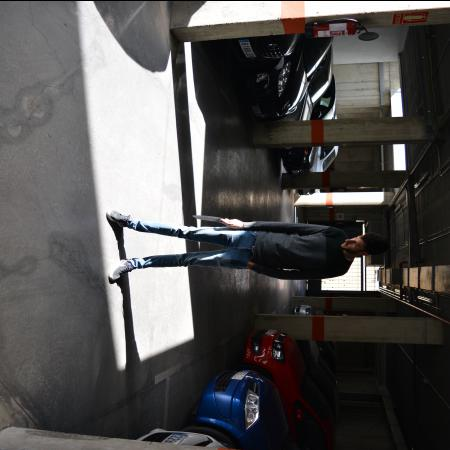long weapon: (189, 212, 229, 222)
